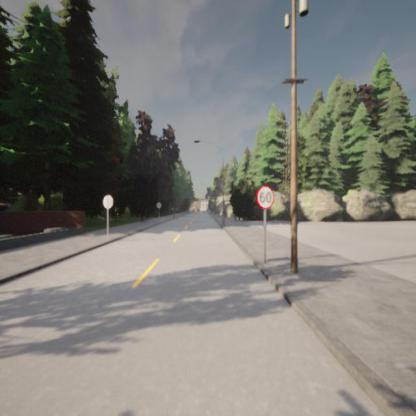traffic_sign_60: (255, 186, 273, 208)
